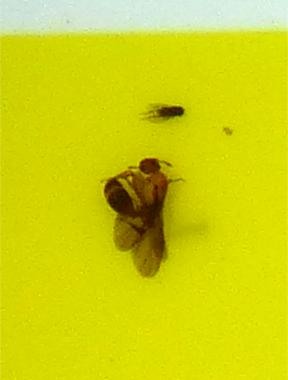Brachycera: (144, 100, 188, 125)
Hymenoptera: (100, 154, 188, 280)
